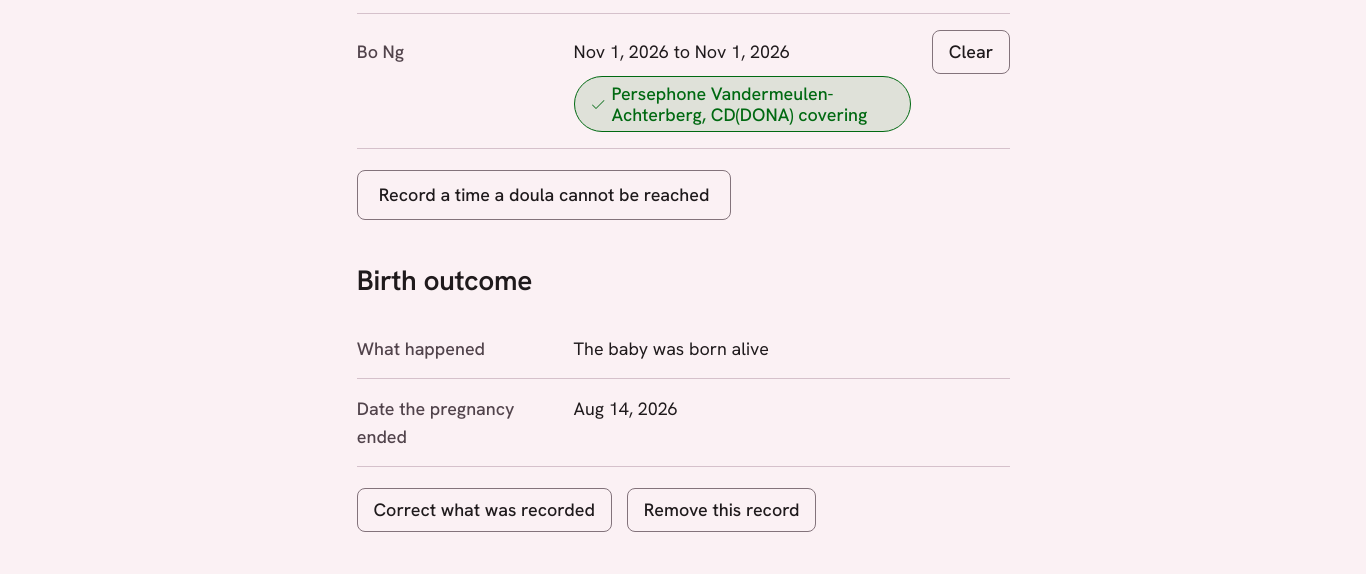
Test case: the on-call section on a birth (#1093) › From and Until › refuses every empty question in one summary, in field order, against each field, and sends nothing
(page scrolled)
What coordinates should you click on to do the following:
click the button "Record a time a doula cannot be reached"
I would click on:
 (544, 195)
Its box is [357,170,731,220].
(page scrolled)
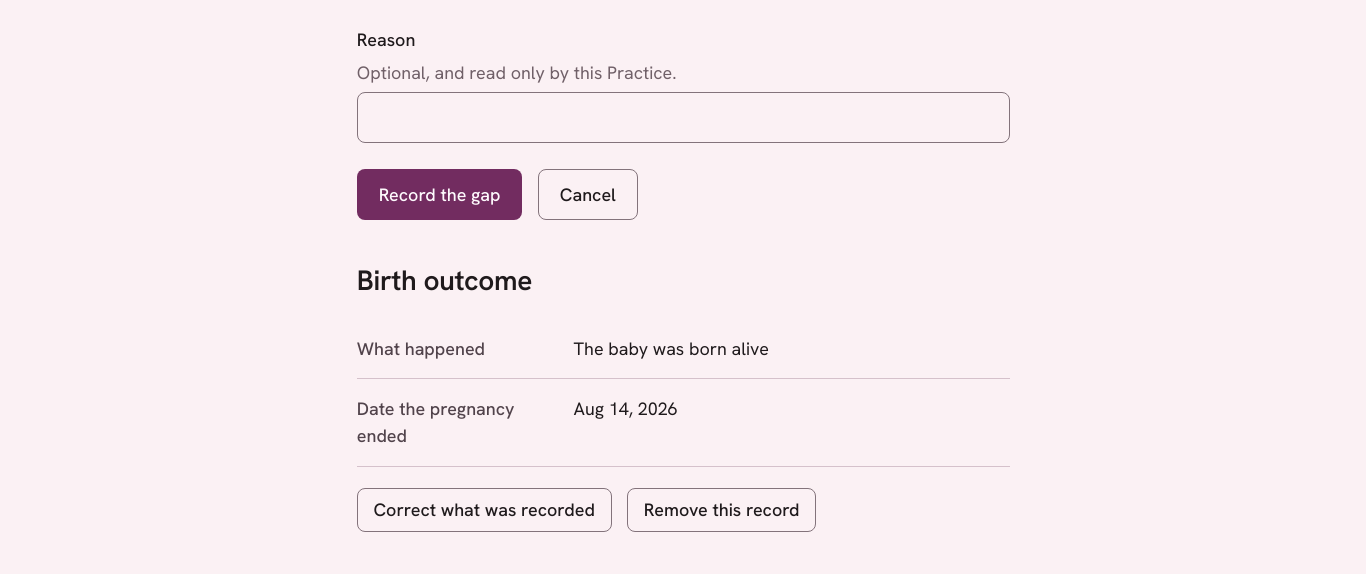
What coordinates should you click on to do the following:
click the button "Record the gap"
I would click on:
 (440, 194)
Its box is [357,169,522,220].
(page scrolled)
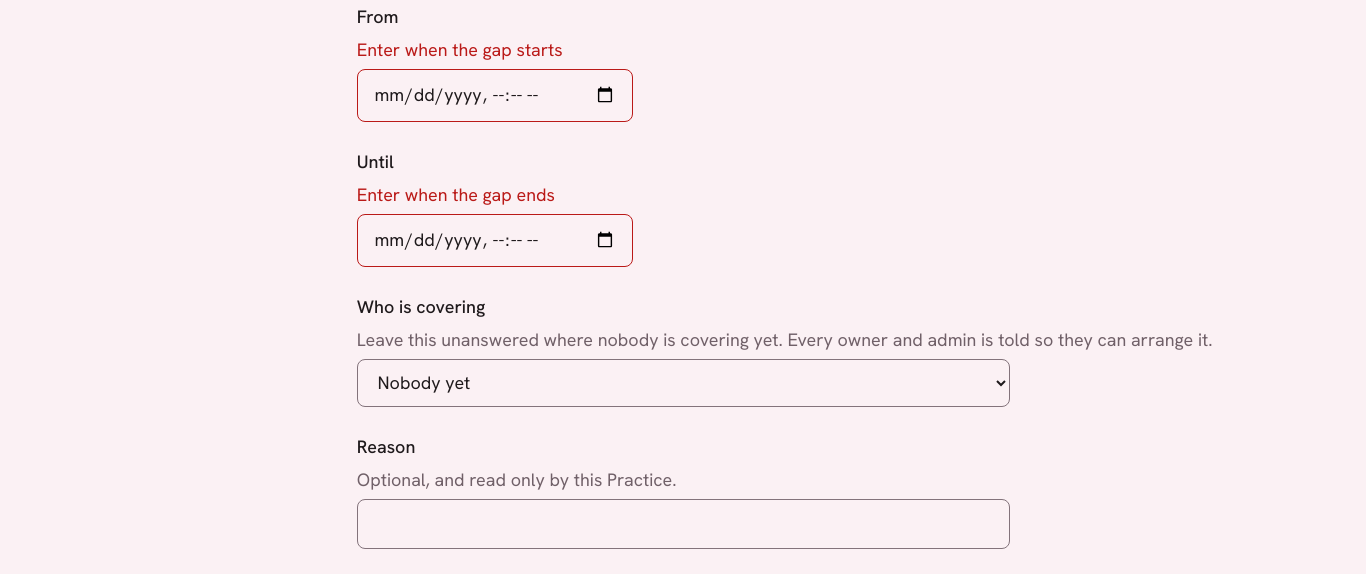
Check: the text "Enter when the gap ends" is shown, box [357,183,555,206]
